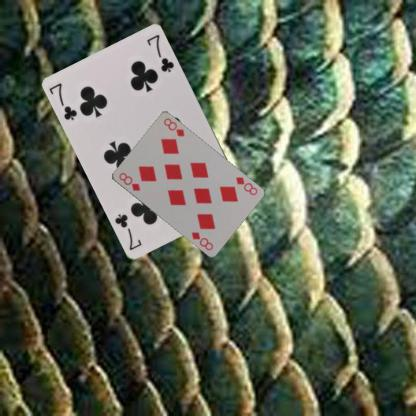7c: (47, 80, 79, 122)
8d: (233, 174, 258, 197), (116, 170, 141, 192)
